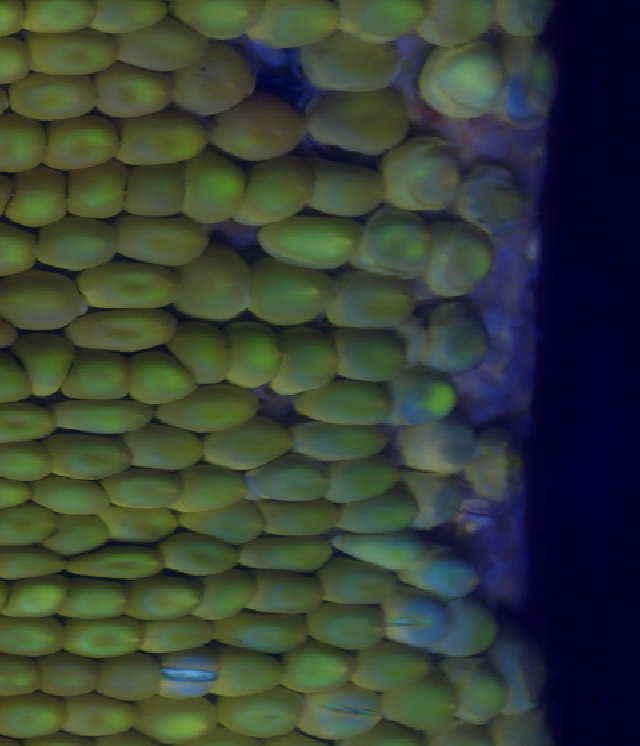fluorescent: (304, 91, 416, 155), (238, 153, 316, 234), (299, 34, 406, 92), (255, 218, 358, 276), (420, 43, 497, 118), (309, 147, 386, 220), (203, 97, 309, 150), (384, 133, 454, 213), (119, 211, 204, 275), (423, 213, 487, 297), (65, 308, 177, 355), (183, 42, 254, 116), (271, 326, 341, 400), (357, 214, 438, 276), (423, 300, 487, 378), (454, 159, 523, 230), (117, 24, 216, 73), (173, 258, 252, 317), (497, 42, 557, 118), (78, 266, 173, 314), (332, 271, 410, 329), (36, 214, 122, 266), (4, 76, 97, 124), (112, 118, 204, 165), (396, 468, 465, 529), (28, 24, 117, 71), (61, 162, 128, 224), (48, 114, 119, 172), (313, 556, 402, 602), (248, 2, 341, 45), (461, 427, 515, 501), (252, 256, 317, 317), (333, 323, 403, 379), (415, 1, 504, 45), (2, 279, 78, 330), (90, 71, 174, 117), (151, 389, 261, 424), (186, 158, 244, 224), (415, 531, 474, 595), (381, 594, 449, 649), (293, 424, 390, 462), (67, 692, 134, 746), (291, 384, 396, 418), (202, 423, 291, 463), (303, 688, 380, 734), (448, 660, 506, 721), (226, 608, 306, 652), (97, 653, 162, 707), (397, 424, 464, 476), (309, 602, 383, 649), (48, 433, 133, 473), (177, 1, 264, 40), (332, 4, 419, 43), (325, 463, 402, 507), (329, 530, 423, 566), (380, 675, 454, 720), (122, 359, 196, 404), (136, 700, 215, 742), (217, 692, 297, 733), (177, 326, 232, 385), (251, 459, 323, 504), (245, 568, 320, 611), (286, 649, 355, 695), (233, 320, 273, 397), (339, 491, 419, 529), (258, 495, 338, 533), (355, 646, 428, 687), (158, 653, 220, 701), (29, 475, 107, 513), (87, 1, 162, 40), (444, 597, 493, 656), (102, 505, 178, 543), (133, 433, 206, 472), (65, 578, 128, 623), (155, 537, 232, 573), (128, 579, 199, 618), (219, 652, 281, 695), (0, 694, 62, 737), (493, 1, 558, 42), (126, 160, 175, 214), (0, 114, 46, 171), (174, 466, 241, 505), (68, 549, 158, 578), (54, 359, 126, 395), (9, 175, 61, 224), (17, 1, 96, 33), (58, 624, 145, 653), (496, 636, 530, 708), (245, 536, 326, 566), (400, 373, 451, 420), (36, 656, 93, 698), (0, 549, 68, 584), (141, 624, 209, 658), (57, 408, 145, 434), (0, 226, 41, 281), (28, 342, 70, 395), (181, 510, 257, 539), (104, 479, 178, 508), (0, 407, 64, 440), (49, 513, 104, 550), (0, 445, 49, 485), (0, 618, 57, 652), (0, 508, 48, 547), (0, 34, 32, 88), (487, 717, 549, 743), (12, 585, 59, 618), (206, 572, 239, 616), (0, 476, 38, 513), (0, 656, 35, 695)
